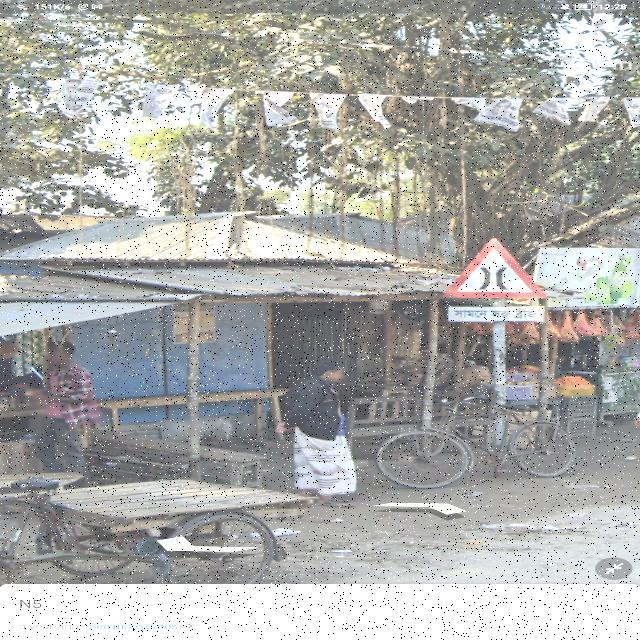Ahead-of-the-bridge: (439, 231, 550, 335)
